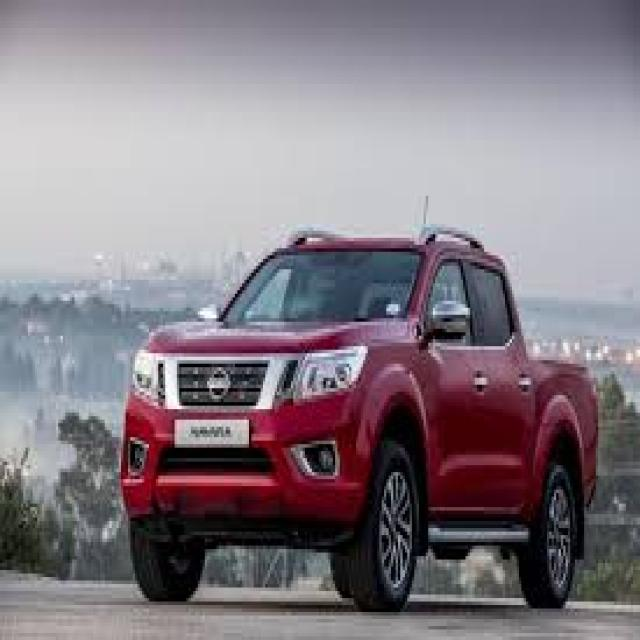Pickup Trucks: (116, 227, 598, 612)
